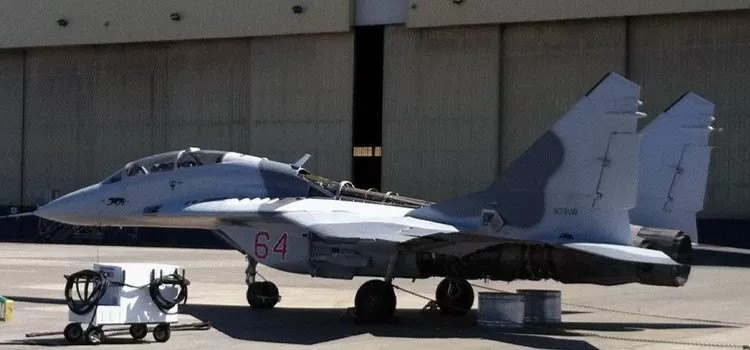Mig-29: (31, 58, 746, 350)
